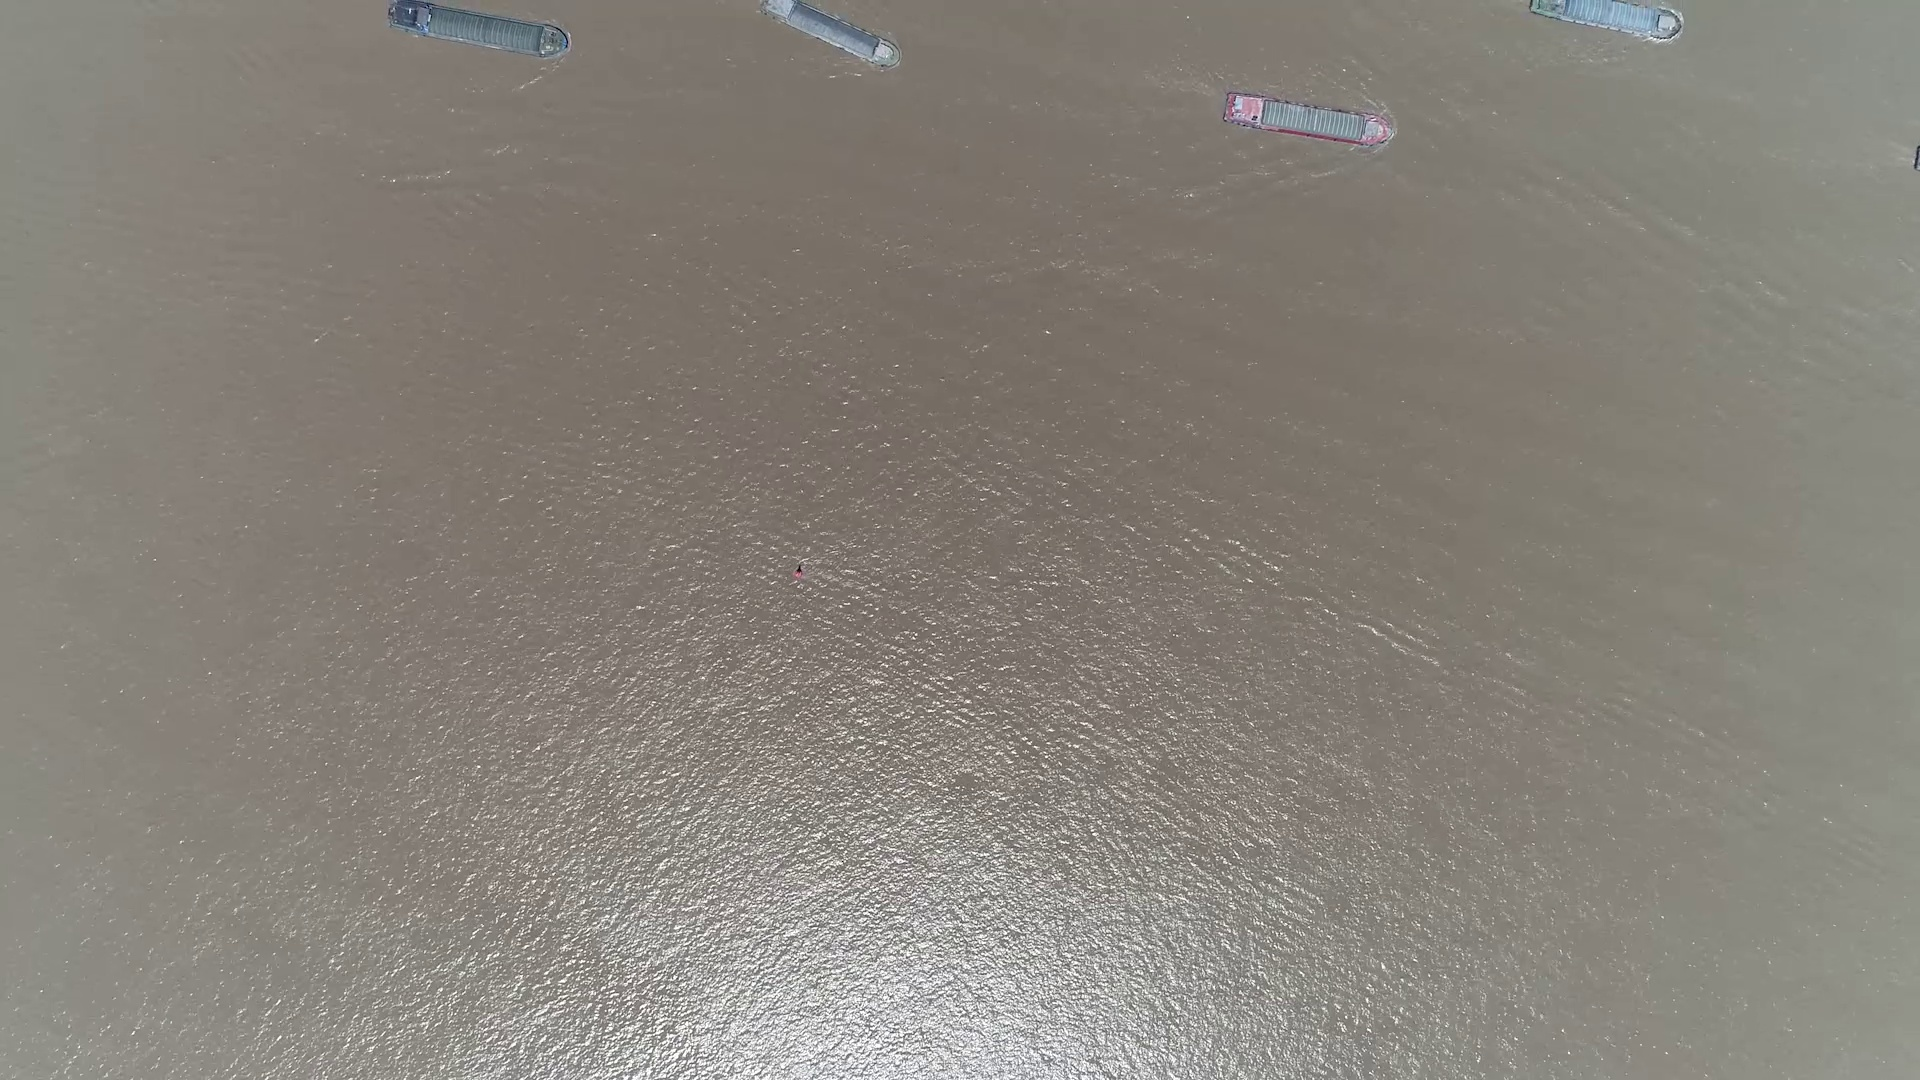ship: (388, 1, 571, 59), (1224, 94, 1393, 146), (760, 0, 899, 63), (1528, 0, 1684, 36)
